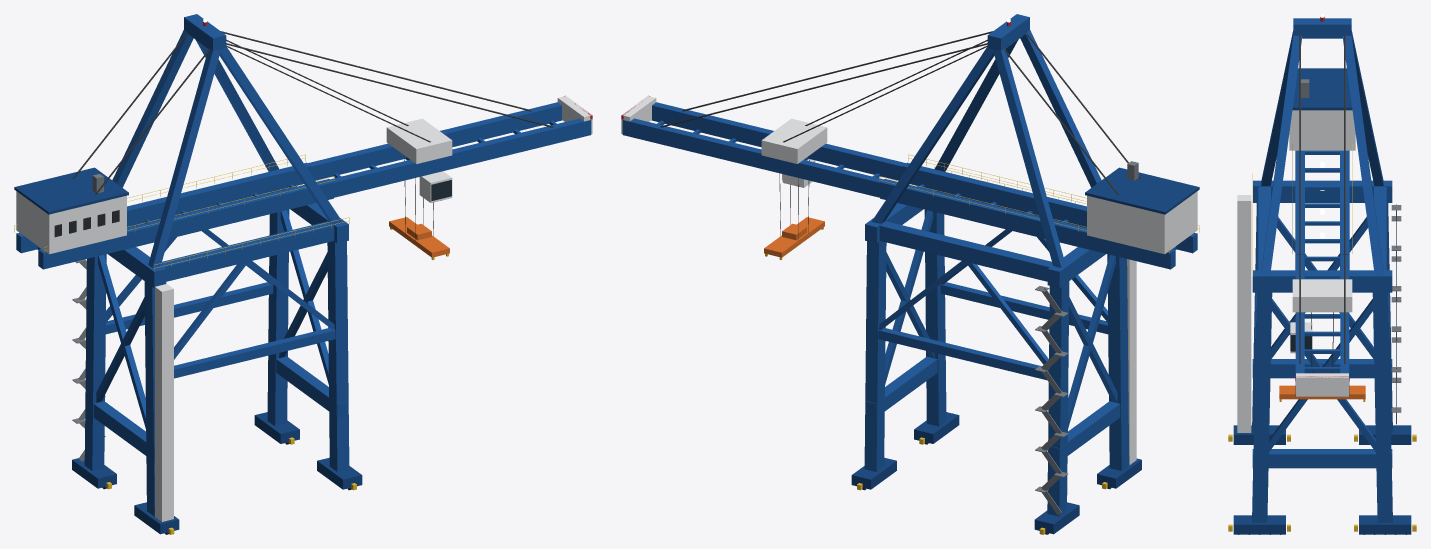
The model's file is sts_crane.glb.
3 views of the same model, side by side, from view 1: azimuth 30°, elevation 25°; view 2: azimuth 150°, elevation 25°; view 3: azimuth 270°, elevation 25° (orthographic).
Parts seen in each view (by area): view 1: sts; view 2: sts; view 3: sts.
Part boxes in pixels (<box>): sts: <box>14,14,592,534</box>; sts: <box>621,14,1199,534</box>; sts: <box>1228,14,1416,534</box>.
Bounding box in the file's own units: 91.73 × 74.17 × 27.
